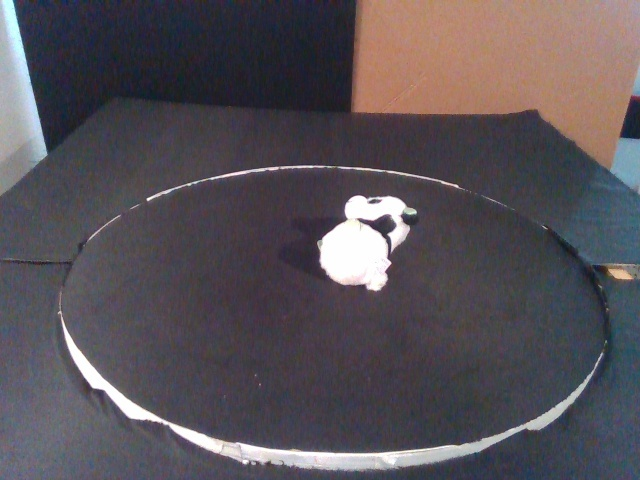teddy_bear: (316, 195, 418, 292)
